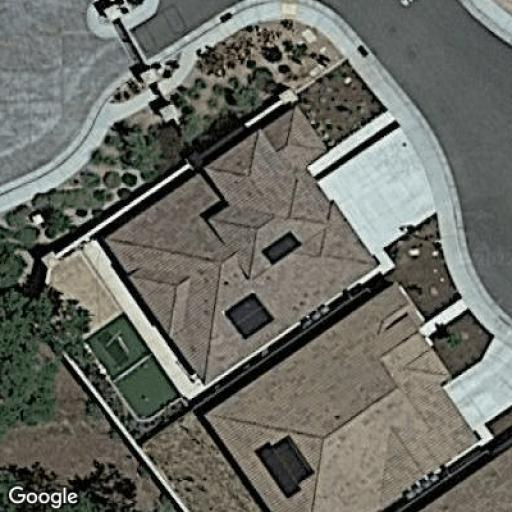solar-panel: (253, 434, 317, 498), (223, 291, 275, 340), (260, 230, 304, 266)
